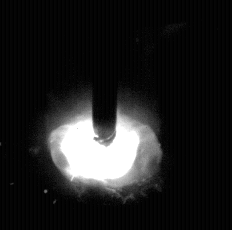arame: (92, 0, 118, 146)
poca: (47, 0, 158, 230)
